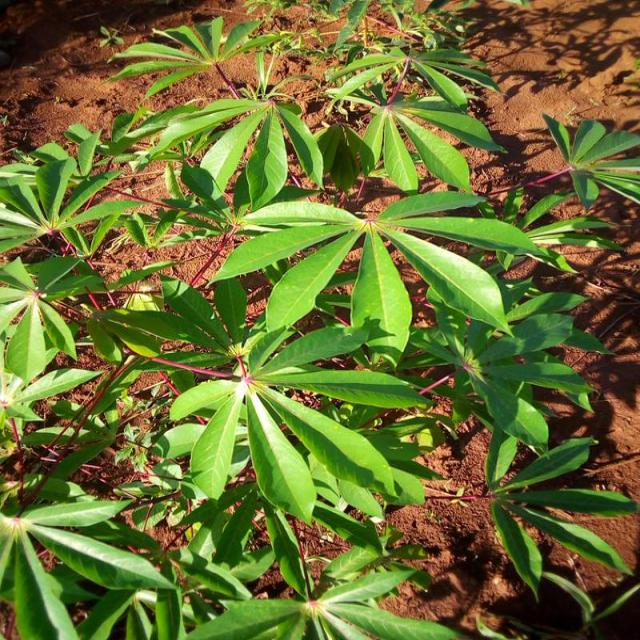cassava leaf: (2, 5, 636, 637), (207, 186, 549, 364)
